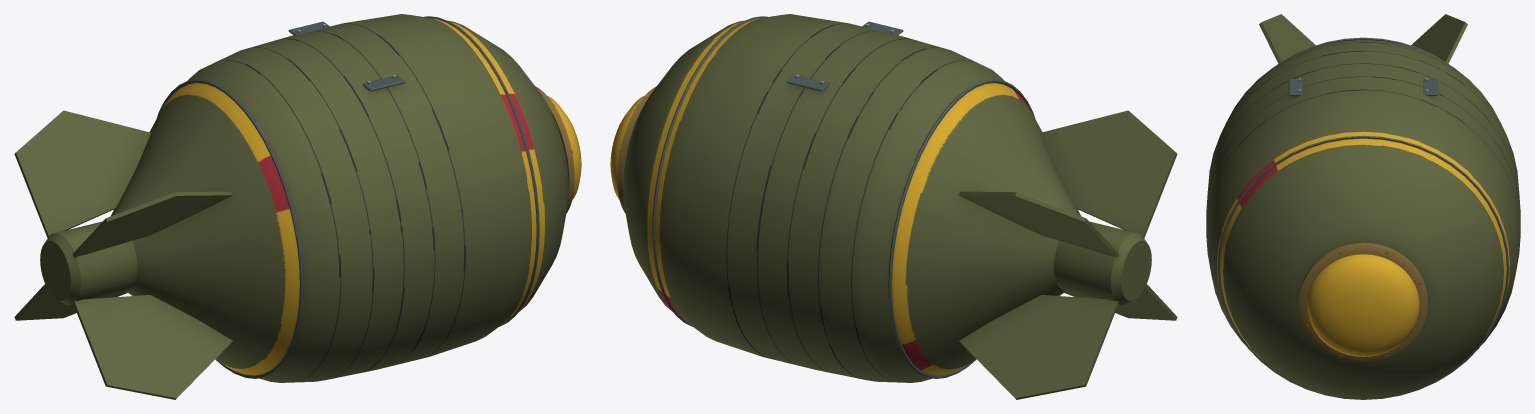
File: bomb.glb
3 views of the same model, side by side, from view 1: azimuth 30°, elevation 25°; view 2: azimuth 150°, elevation 25°; view 3: azimuth 270°, elevation 25° (orthographic). The views are drawn at different scales.
Visible parts, largest first — view 1: bomb_static_0; view 2: bomb_static_0; view 3: bomb_static_0.
Boxes of the visible parts, x1,y1,x2,y2 form: bomb_static_0: (14,14,581,399); bomb_static_0: (610,14,1177,399); bomb_static_0: (1206,14,1520,399).
Size of the model in its own units: 2.87 by 1.68 by 1.68.
Materials: 1 (1 with a texture image).
